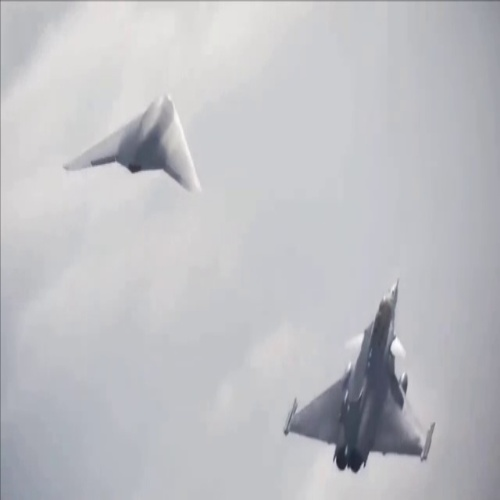uav881: (59, 93, 204, 196)
